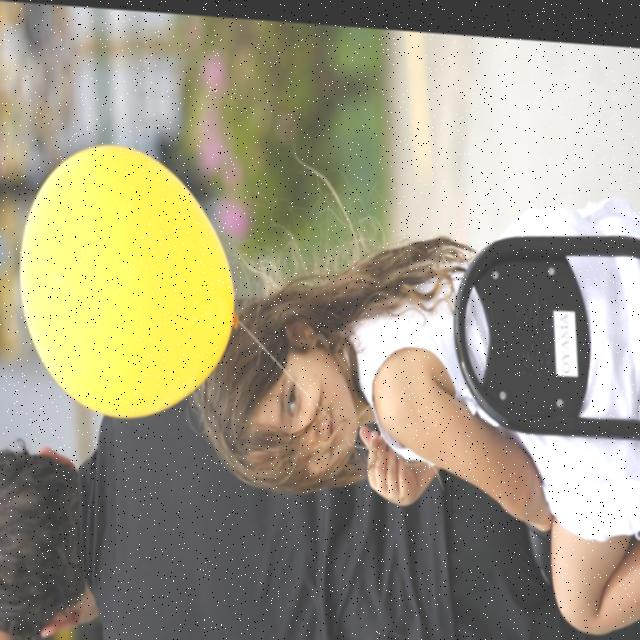balloon: (15, 135, 234, 422)
